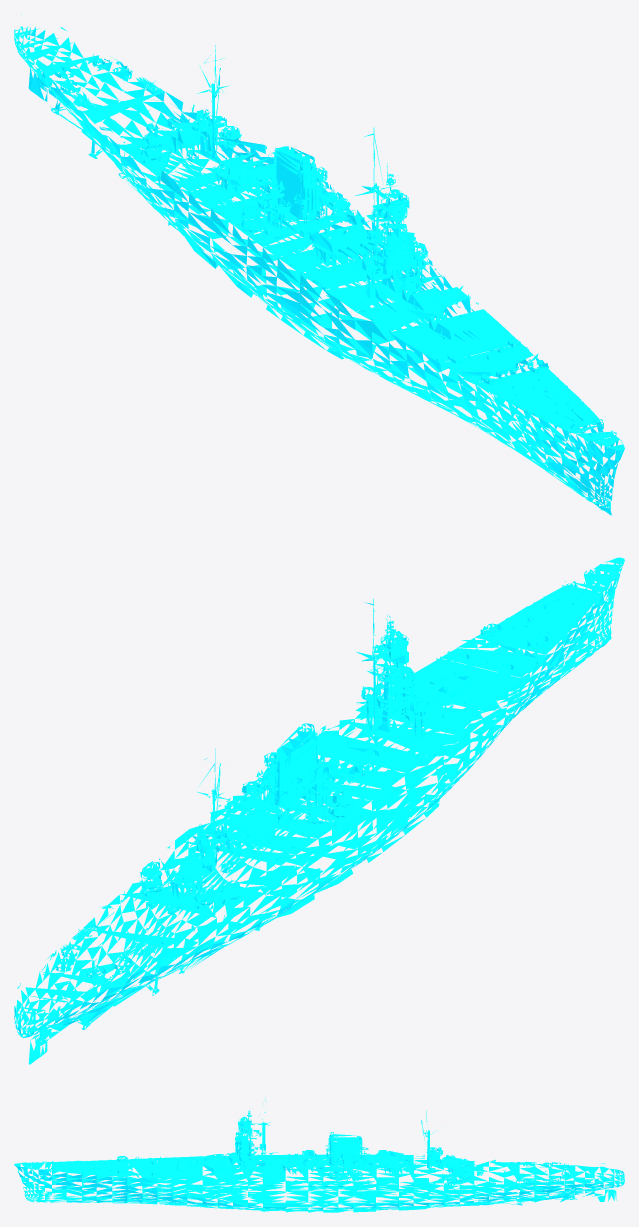
The model's file is PISC519.glb.
3 renders of one model, top to bottom at view 1: azimuth 30°, elevation 25°; view 2: azimuth 150°, elevation 25°; view 3: azimuth 270°, elevation 25°, orthographic. The views are drawn at different scales.
Visible parts, largest first — view 1: hull_mid, hull_bow, hull_stern, secondary_battery, main_battery; view 2: hull_mid, hull_bow, hull_stern, secondary_battery, main_battery; view 3: hull_mid, hull_bow, hull_stern, secondary_battery, main_battery.
Part boxes in pixels (x1,y1,x2,y2): hull_mid: (99,45,528,421); hull_bow: (361,241,624,515); hull_stern: (14,15,210,181); secondary_battery: (141,111,480,341); main_battery: (204,143,382,262); hull_mid: (99,598,528,974); hull_bow: (361,557,624,734); hull_stern: (14,830,209,1064); secondary_battery: (140,664,479,902); main_battery: (209,728,387,848); hull_mid: (147,1099,495,1212); hull_bow: (14,1141,249,1204); hull_stern: (438,1147,624,1205); secondary_battery: (166,1154,475,1181); main_battery: (267,1150,424,1168).
Size of the model in its own units: 1.88 by 3.46 by 17.53.
